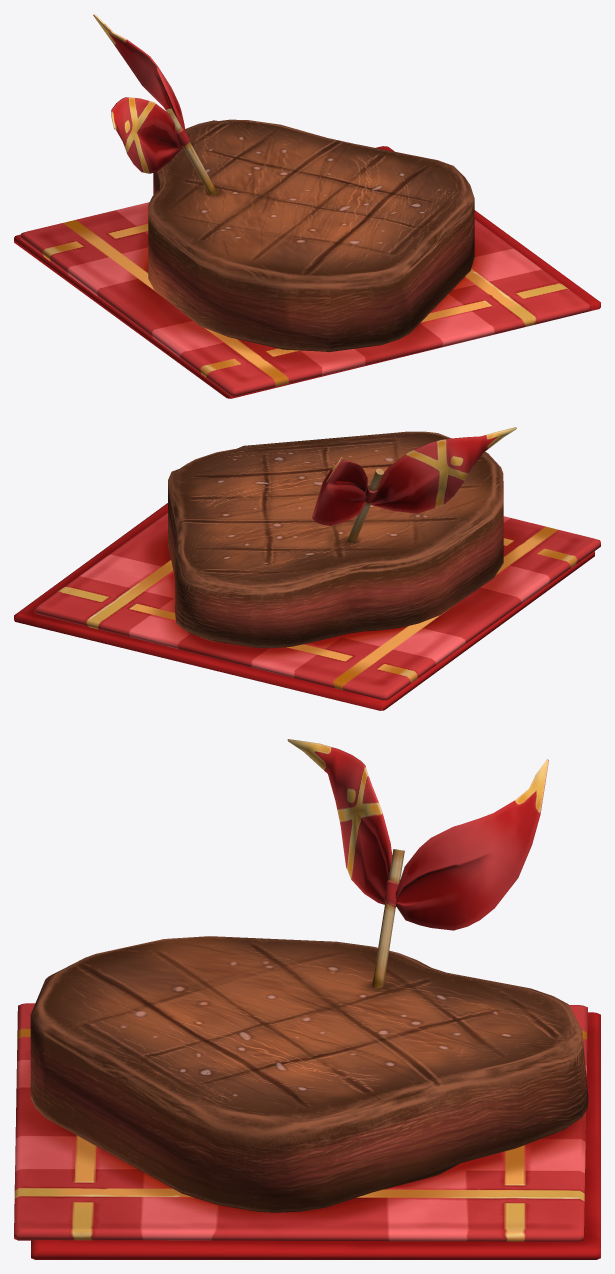
File: food_answer3.glb
The picture shows the model from 3 angles, top to bottom: view 1: azimuth 30°, elevation 25°; view 2: azimuth 150°, elevation 25°; view 3: azimuth 270°, elevation 25°; orthographic projection. The views are drawn at different scales.
Parts seen in each view (by area): view 1: SteakLP, Tissu1, RubanG, Tissu2, RubanD, Pic; view 2: SteakLP, Tissu1, Tissu2, RubanG, RubanD, Pic; view 3: SteakLP, Tissu1, Tissu2, RubanD, RubanG, Pic.
Part boxes in pixels (x1,y1,x2,y2): SteakLP: (148, 119, 474, 352); Tissu1: (20, 148, 590, 396); RubanG: (111, 97, 182, 173); Tissu2: (14, 146, 600, 398); RubanD: (93, 14, 185, 149); Pic: (166, 108, 217, 194); SteakLP: (168, 431, 503, 648); Tissu1: (34, 512, 600, 700); Tissu2: (14, 503, 594, 710); RubanG: (370, 427, 516, 513); RubanD: (312, 457, 367, 525); Pic: (347, 468, 383, 542); SteakLP: (30, 936, 588, 1212); Tissu1: (14, 1003, 587, 1241); Tissu2: (31, 1012, 600, 1259); RubanD: (395, 759, 548, 930); RubanG: (287, 739, 392, 904); Pic: (372, 849, 404, 988).
Size of the model in its own units: 2.09 by 1.16 by 2.06.
Materials: 1 (1 with a texture image).
